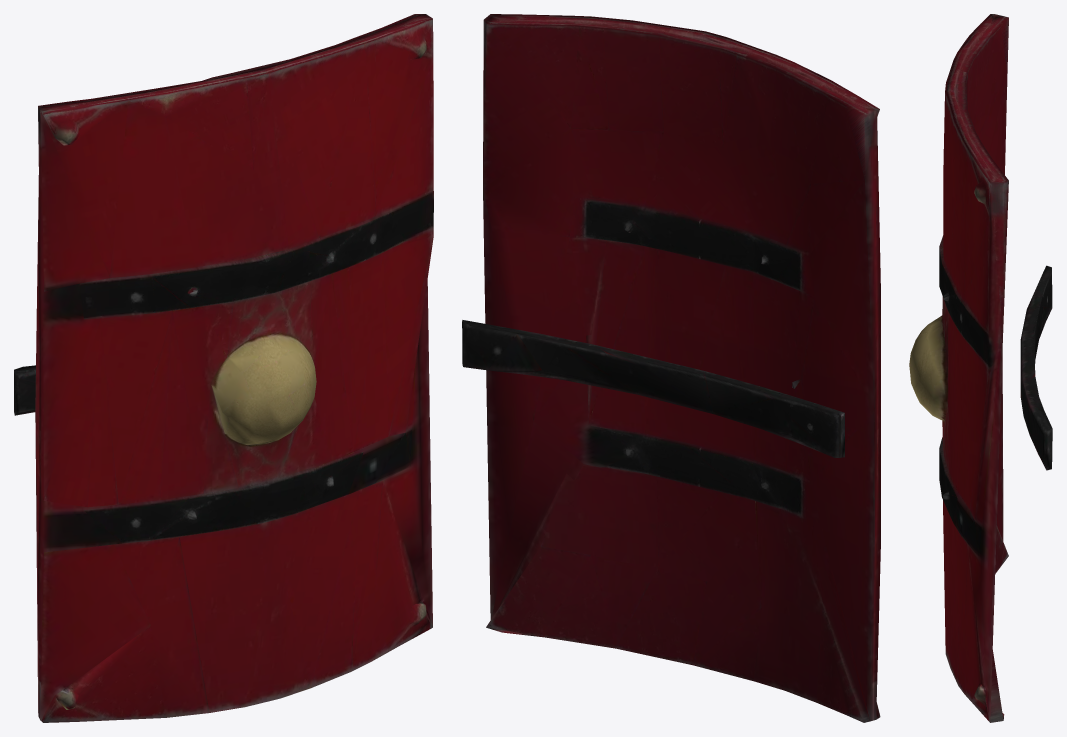
Rendered from wpn_khien-nhat-dv.glb.
The picture shows the model from 3 angles, left to right: view 1: azimuth 30°, elevation 25°; view 2: azimuth 150°, elevation 25°; view 3: azimuth 270°, elevation 25°; orthographic projection. The views are drawn at different scales.
Bounding box in the file's own units: 1.24 × 1.9 × 0.4423.
Materials: 1 (1 with a texture image).
